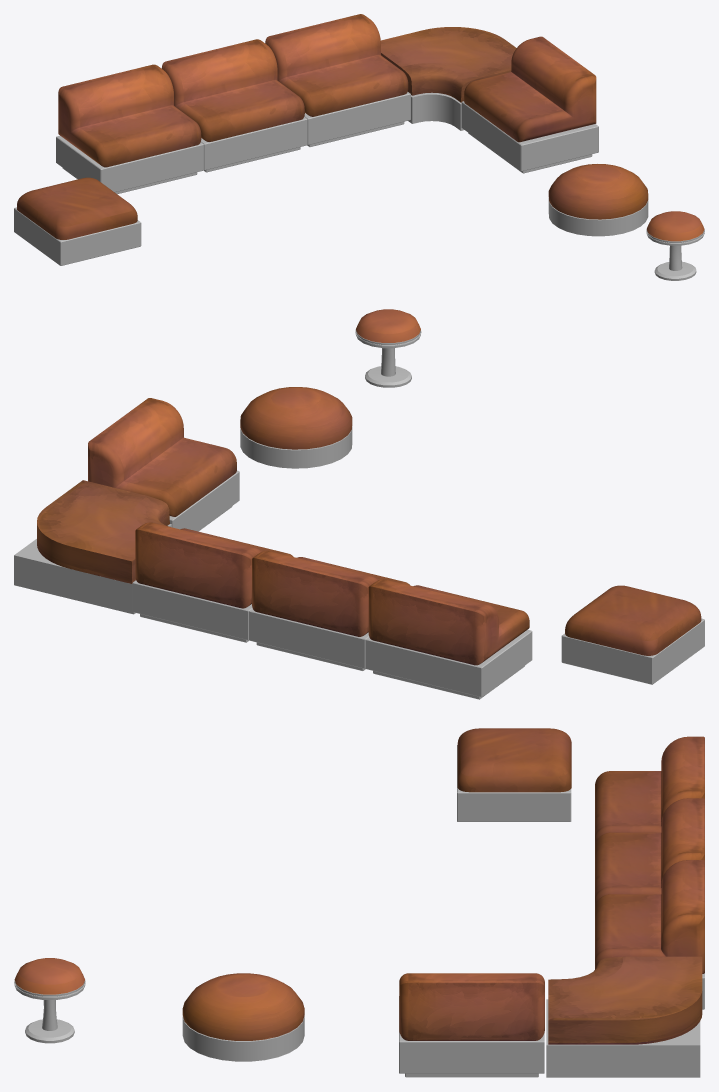
Rendered from Couch.fbx.
The picture shows the model from 3 angles, top to bottom: view 1: azimuth 30°, elevation 25°; view 2: azimuth 150°, elevation 25°; view 3: azimuth 270°, elevation 25°; orthographic projection. The views are drawn at different scales.
Visible parts, largest first — view 1: Couch, Cube.025, Cube.246, Cube.151, SittingPillow, SittingPillowRound, Cube.247, Cube.014, Cylinder.076, Cube.096, Chair, Cylinder.105; view 2: Couch, Cube.025, Cube.246, Cube.151, SittingPillow, SittingPillowRound, Cube.014, Cube.096, Cylinder.076, Cube.247, Chair, Cylinder.105; view 3: Couch, Cube.151, Cube.246, SittingPillow, SittingPillowRound, Cube.096, Cube.247, Cube.014, Cylinder.076, Chair, Cylinder.105.
Boxes of the visible parts, x1,y1,x2,y2 form: Couch: (58,14,408,167); Cube.025: (56,92,410,194); Cube.246: (464,36,596,142); Cube.151: (381,27,516,102); SittingPillow: (17,177,137,239); SittingPillowRound: (548,164,648,219); Cube.247: (461,101,598,173); Cube.014: (14,207,141,265); Cylinder.076: (548,197,648,236); Cube.096: (408,92,463,130); Chair: (646,211,704,241); Cylinder.105: (646,229,704,280); Couch: (135,522,529,665); Cube.025: (132,580,532,699); Cube.246: (88,398,236,516); Cube.151: (37,480,169,583); SittingPillow: (565,585,701,655); SittingPillowRound: (240,387,352,449); Cube.014: (561,618,704,684); Cube.096: (14,524,171,614); Cylinder.076: (240,426,352,468); Cube.247: (169,470,239,531); Chair: (356,309,420,342); Cylinder.105: (355,330,420,387); Couch: (595,736,704,973); Cube.151: (548,956,702,1044); Cube.246: (399,973,544,1040); SittingPillow: (457,728,571,792); SittingPillowRound: (182,973,304,1040); Cube.096: (546,999,700,1077); Cube.247: (399,996,544,1077); Cube.014: (457,745,571,821); Cylinder.076: (182,1016,304,1061); Chair: (14,958,84,994); Cylinder.105: (14,980,85,1043).
Size of the model in its own units: 7.84 by 1.17 by 7.46.
